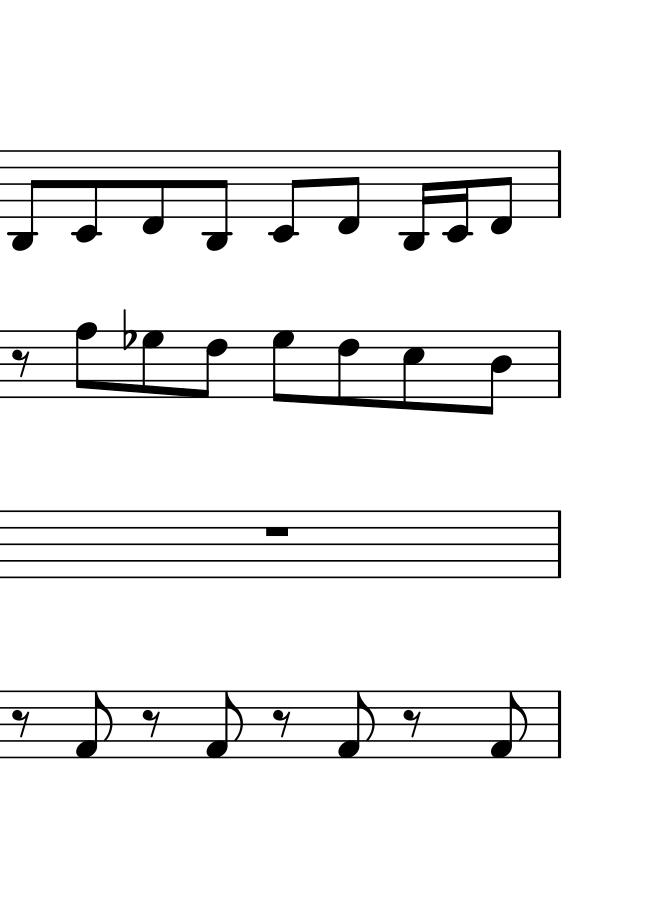16_-2: (443, 149, 471, 247)
16_-3: (402, 150, 434, 253)
8_-1: (140, 150, 167, 237), (336, 149, 362, 237), (489, 150, 515, 237)
8_-2: (268, 149, 303, 244), (70, 151, 102, 243)
8_-3: (8, 152, 41, 252), (202, 148, 233, 253)
8_1: (335, 689, 379, 760), (73, 689, 116, 761), (204, 689, 247, 761), (488, 689, 531, 761)
8_3: (401, 328, 426, 413)
8_4: (478, 330, 511, 416)
8_6: (197, 329, 229, 399), (335, 328, 361, 410)
8_7: (271, 328, 295, 405), (140, 329, 165, 399)
8_8: (74, 321, 98, 401)
Flat: (120, 307, 137, 353)
Rests1: (262, 523, 291, 539)
Rests8: (11, 707, 34, 739), (141, 707, 163, 739), (402, 707, 424, 739), (272, 708, 293, 739), (12, 347, 31, 378)
Single_barline: (549, 691, 566, 757), (551, 511, 567, 576), (552, 330, 567, 397), (553, 151, 567, 219)
